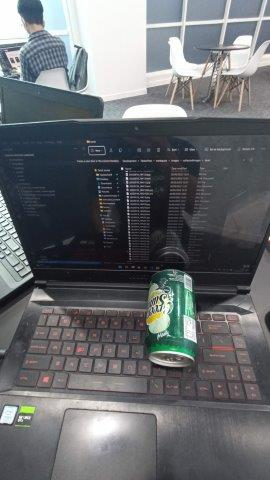kaleng: (146, 269, 197, 366)
